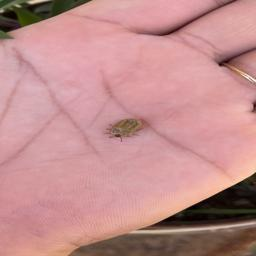Rhipicephalus sanguineus: (102, 117, 143, 142)
